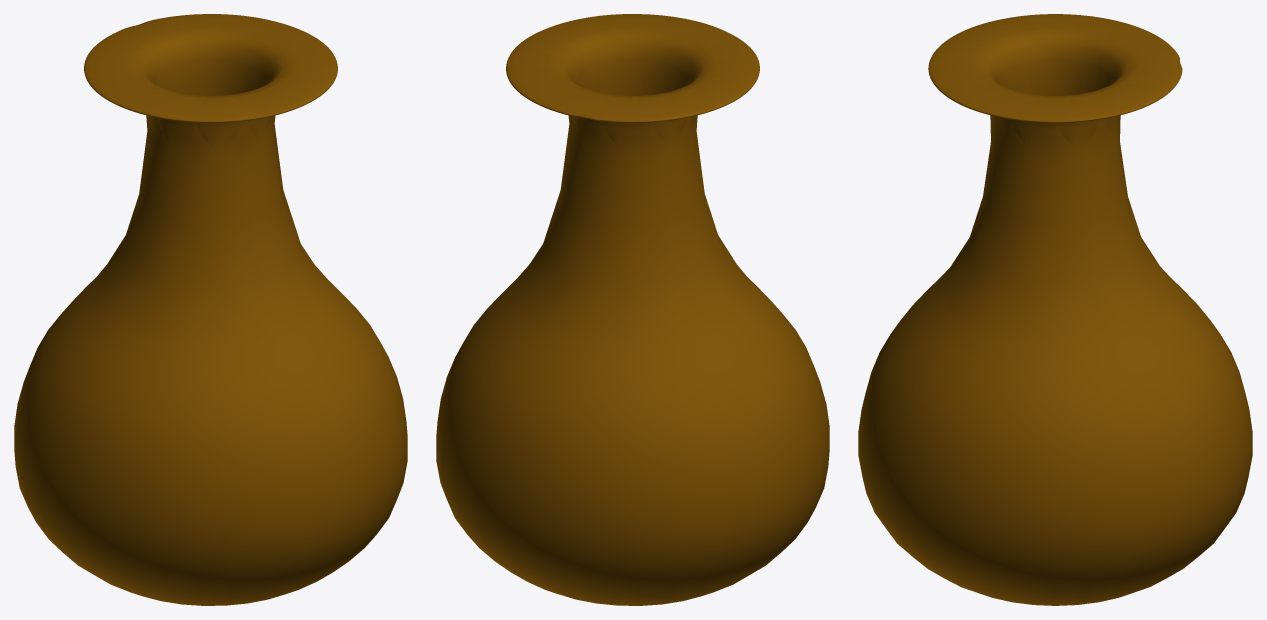
The model's file is vase.fbx.
The picture shows the model from 3 angles, left to right: view 1: azimuth 30°, elevation 25°; view 2: azimuth 150°, elevation 25°; view 3: azimuth 270°, elevation 25°; orthographic projection.
Parts seen in each view (by area): view 1: nurbsToPoly1; view 2: nurbsToPoly1; view 3: nurbsToPoly1.
Part boxes in pixels (x1,y1,x2,y2): nurbsToPoly1: (14, 14, 407, 605); nurbsToPoly1: (436, 14, 829, 605); nurbsToPoly1: (858, 14, 1252, 605).
Size of the model in its own units: 14.7 by 20.93 by 14.7.
